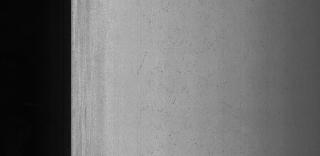silk spot: (130, 9, 218, 135)
